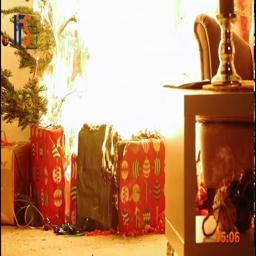fire: (28, 2, 228, 149)
